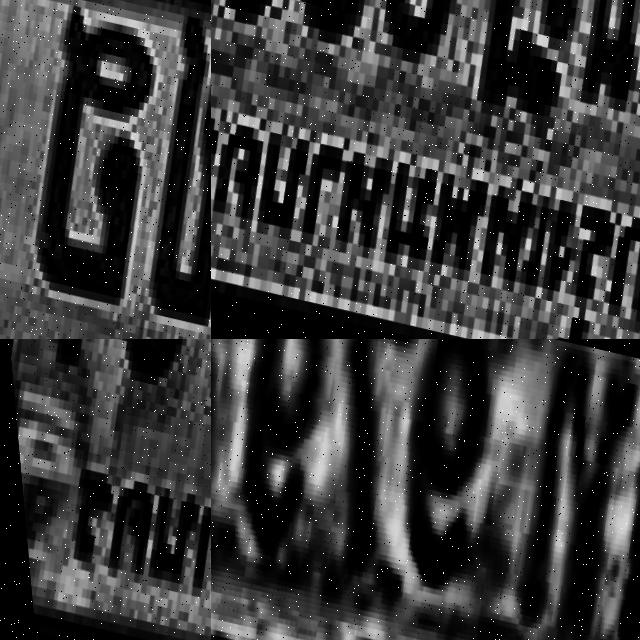license-plate: (211, 0, 640, 339), (211, 339, 640, 640), (0, 0, 211, 339), (0, 339, 211, 640)
